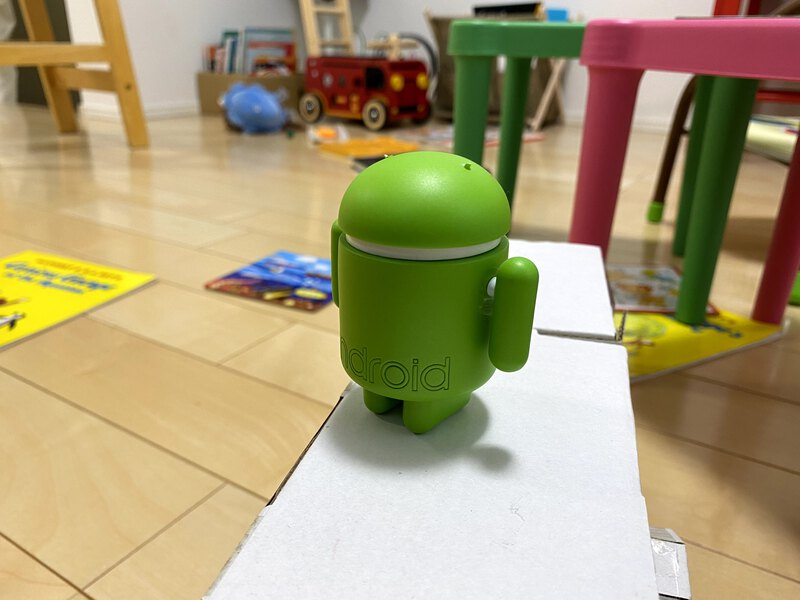android: (306, 130, 550, 471)
